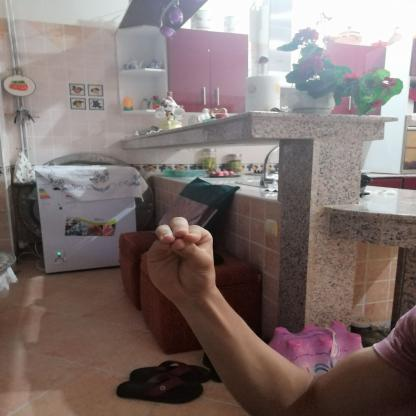HA: (134, 209, 228, 310)
